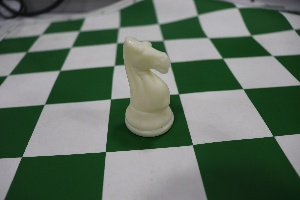white_horse: (112, 26, 178, 144)
